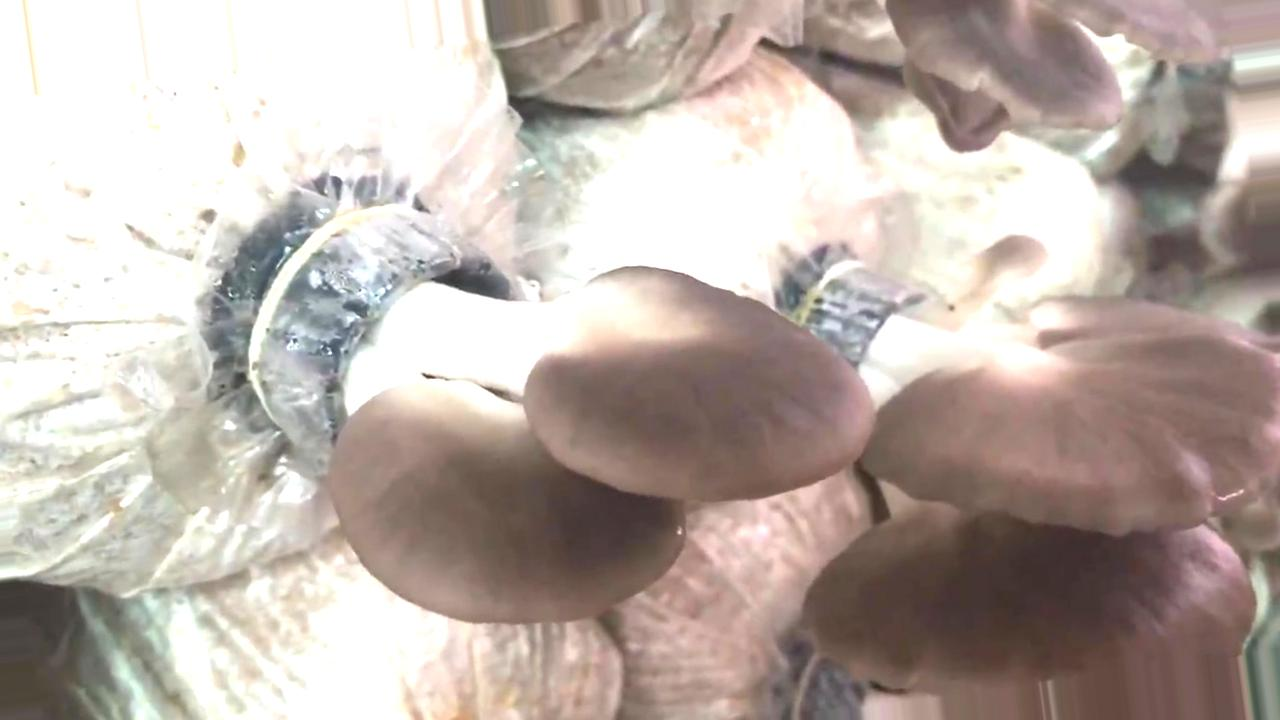nam: (284, 209, 868, 624), (803, 231, 1280, 689), (893, 2, 1280, 155)
